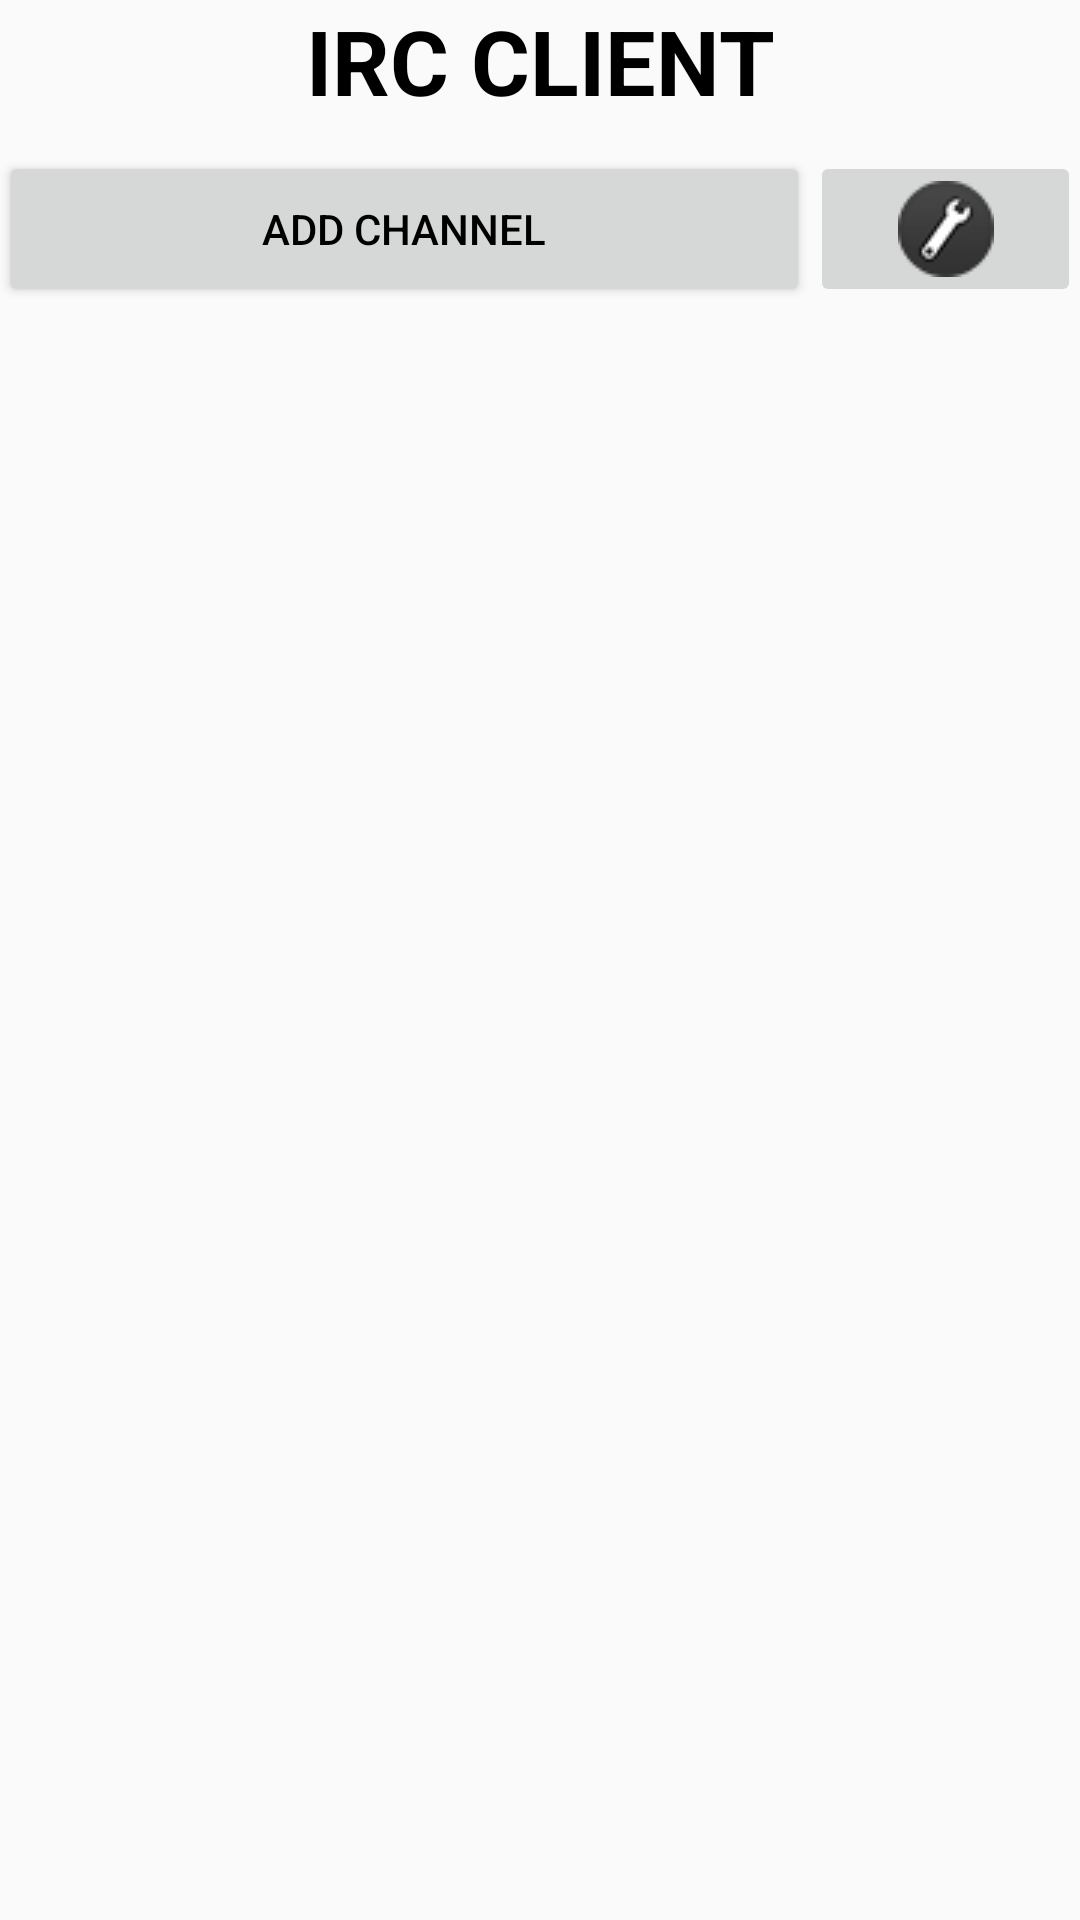

Locate icon controls on the screen. Image size 1080x1920, boxes as bbox=(x1, y1, x2, y2).
settings: bbox=(822, 169, 1069, 289)
